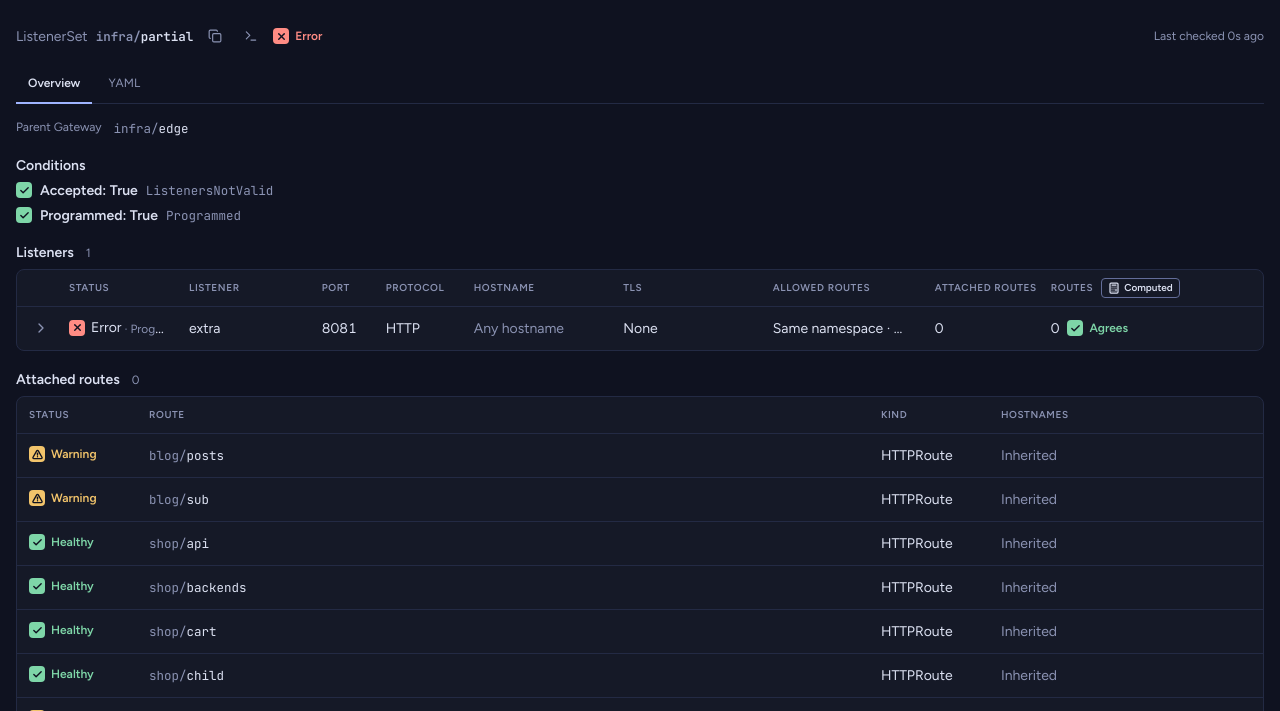
Scenario: an accepted ListenerSet shows no allowed-listeners block
Click the button named "Show conditions for listener extra" at coordinates (41, 328), box x1=29 y1=316 x2=53 y2=340
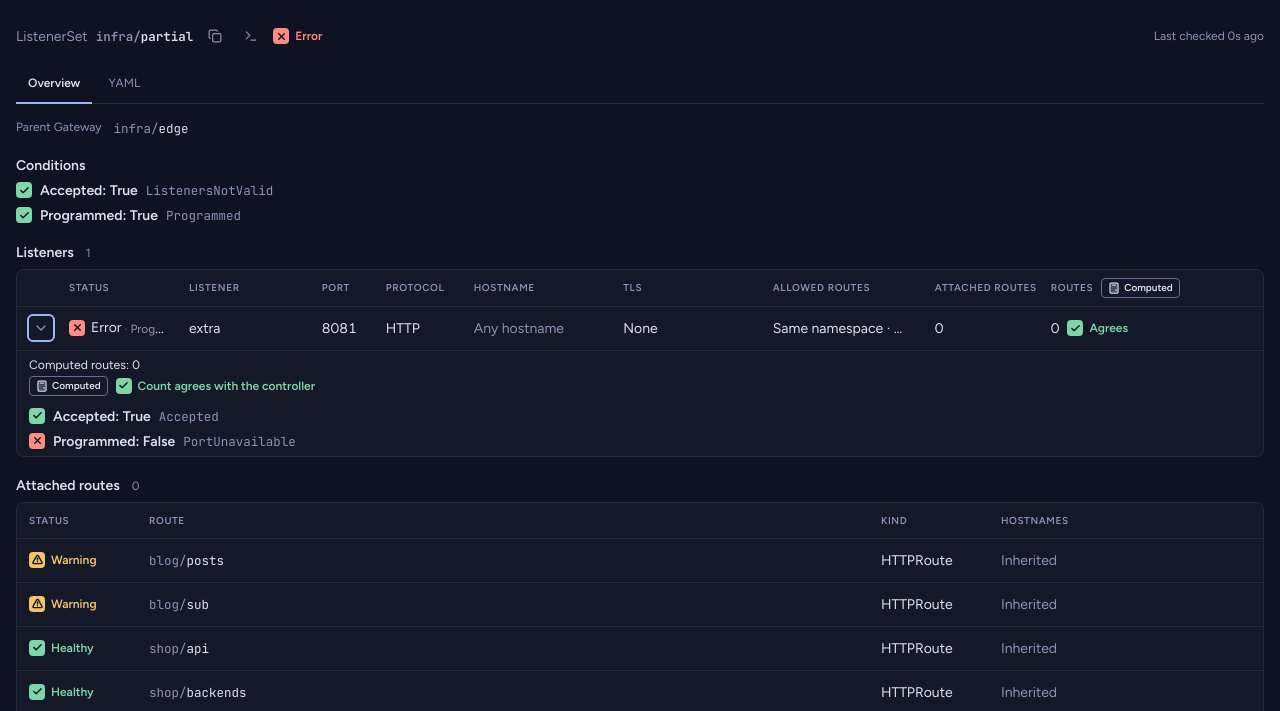
Expected: the list item with test id "condition-Programmed" shows "PortUnavailable", x1=183 y1=432 x2=296 y2=450
Expected: the element with test id "health-icon-error" in the row of "PortUnavailable" is shown, x1=29 y1=432 x2=45 y2=448
